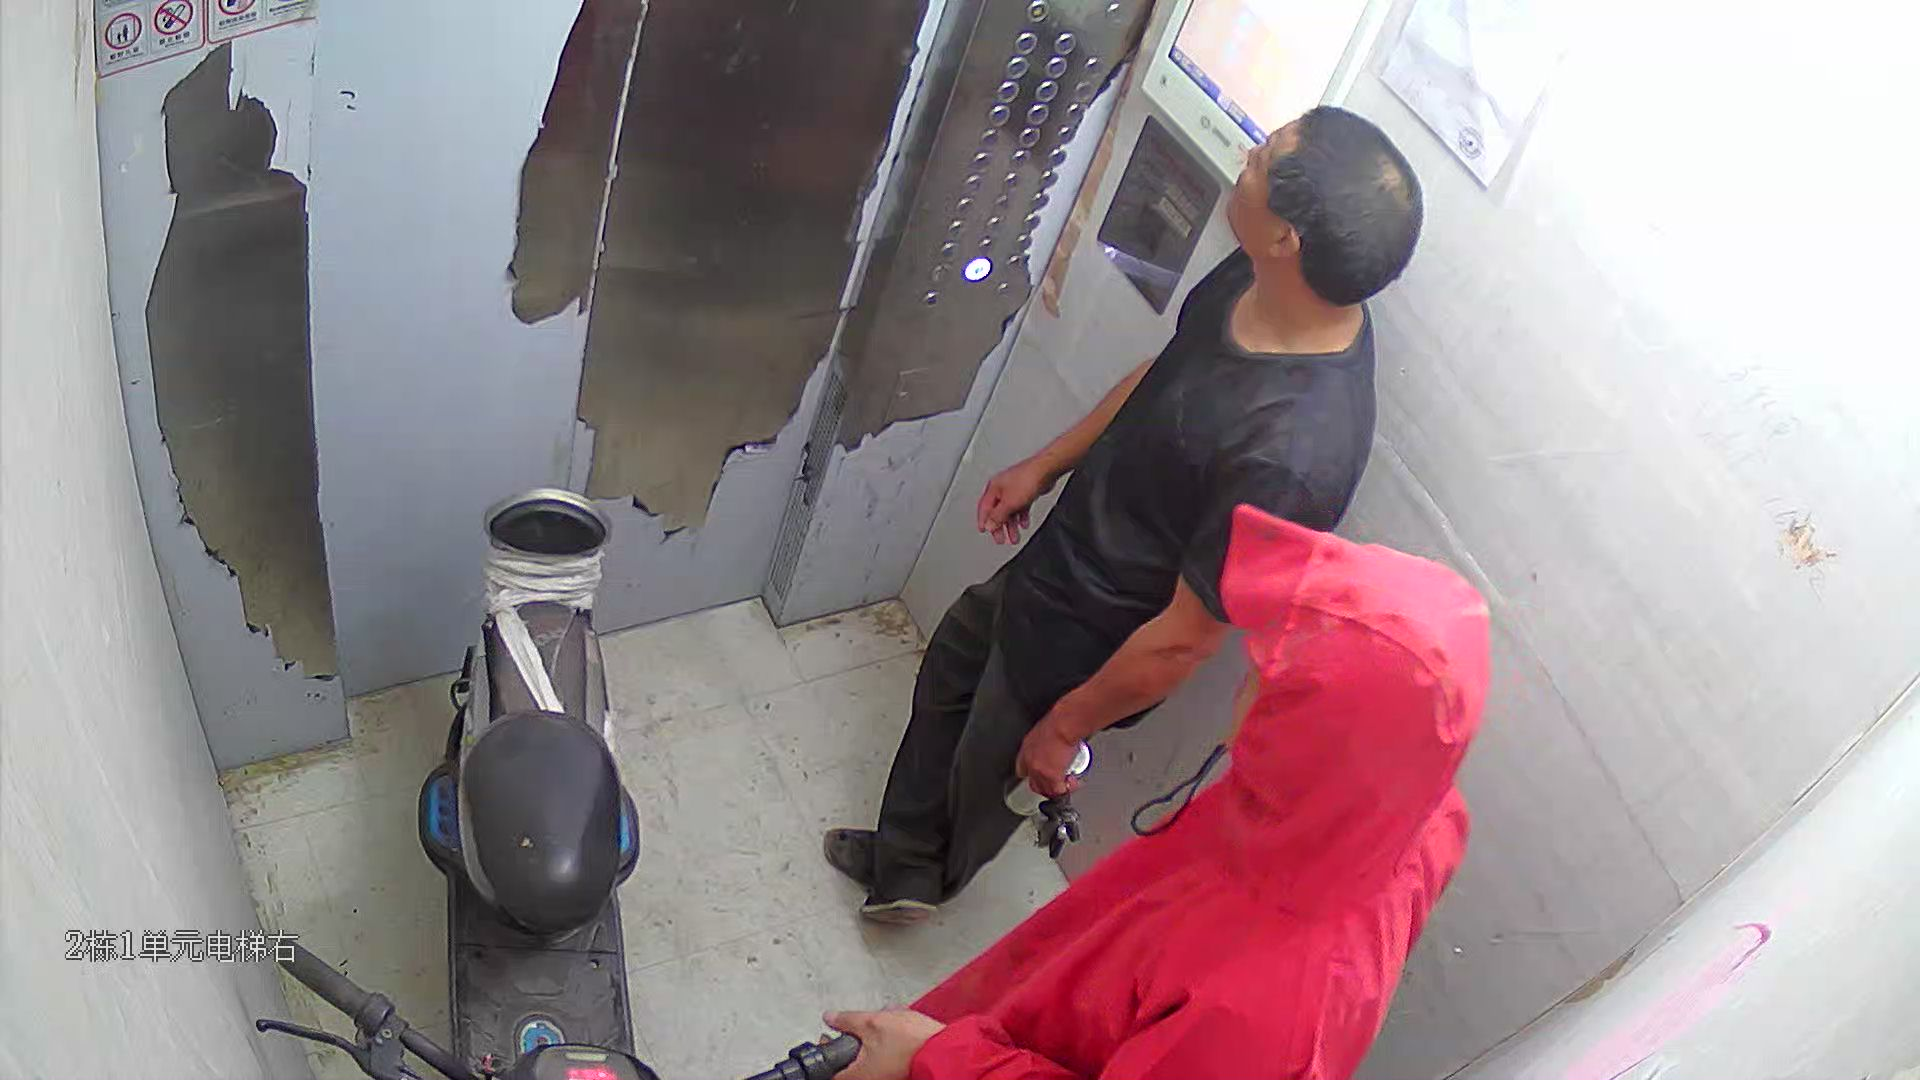Electric-bicycle: (252, 487, 852, 1080)
